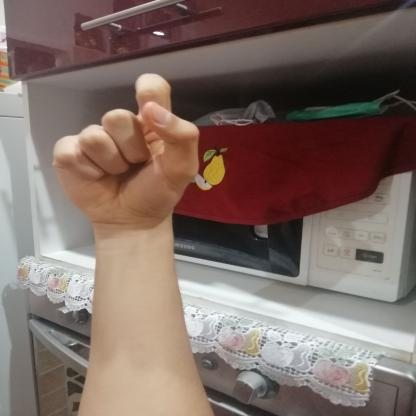FAA: (40, 66, 211, 242)
